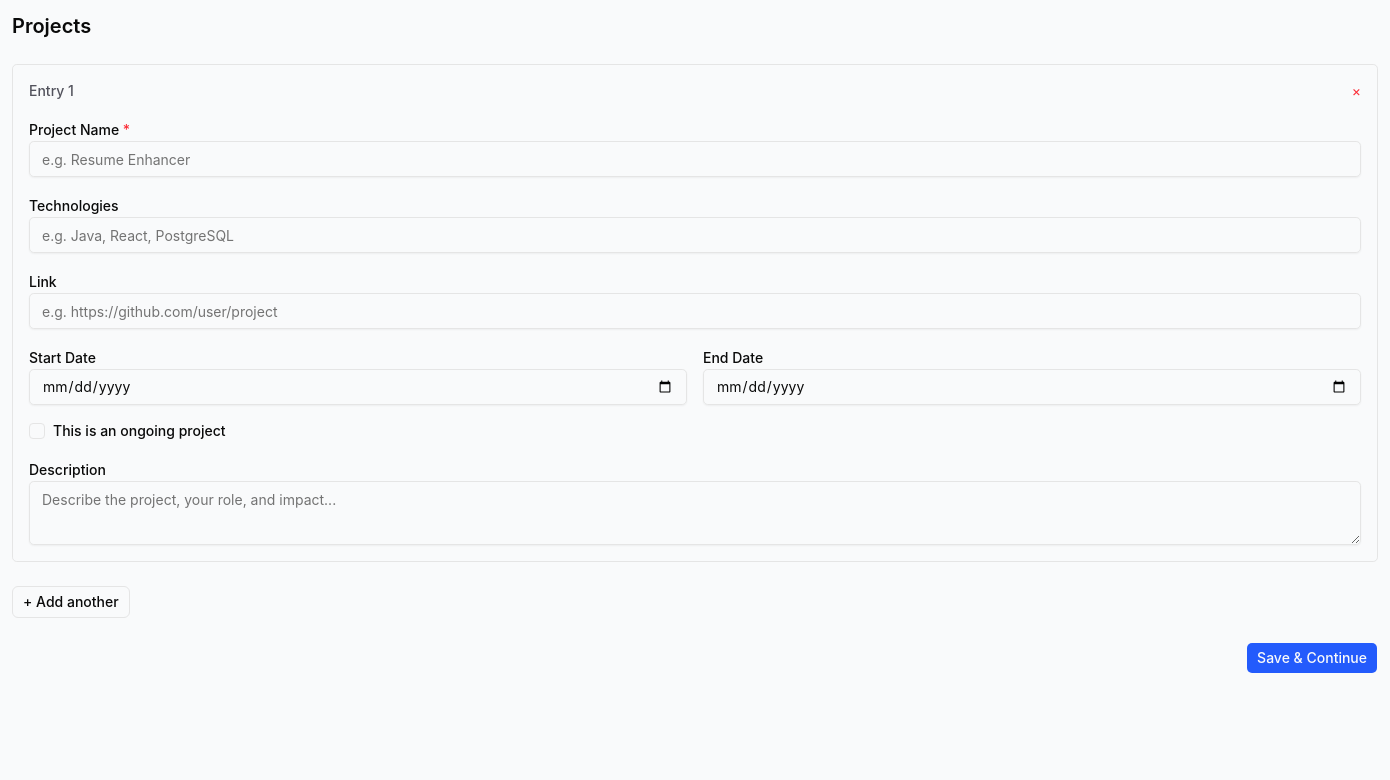
Test: ProjectsStep › blur on empty project name renders text-red-600 error below the field
The image size is (1390, 780).
Step 1. Click the field with placeholder "e.g. Resume Enhancer" → (695, 159), box [29,141,1361,177]
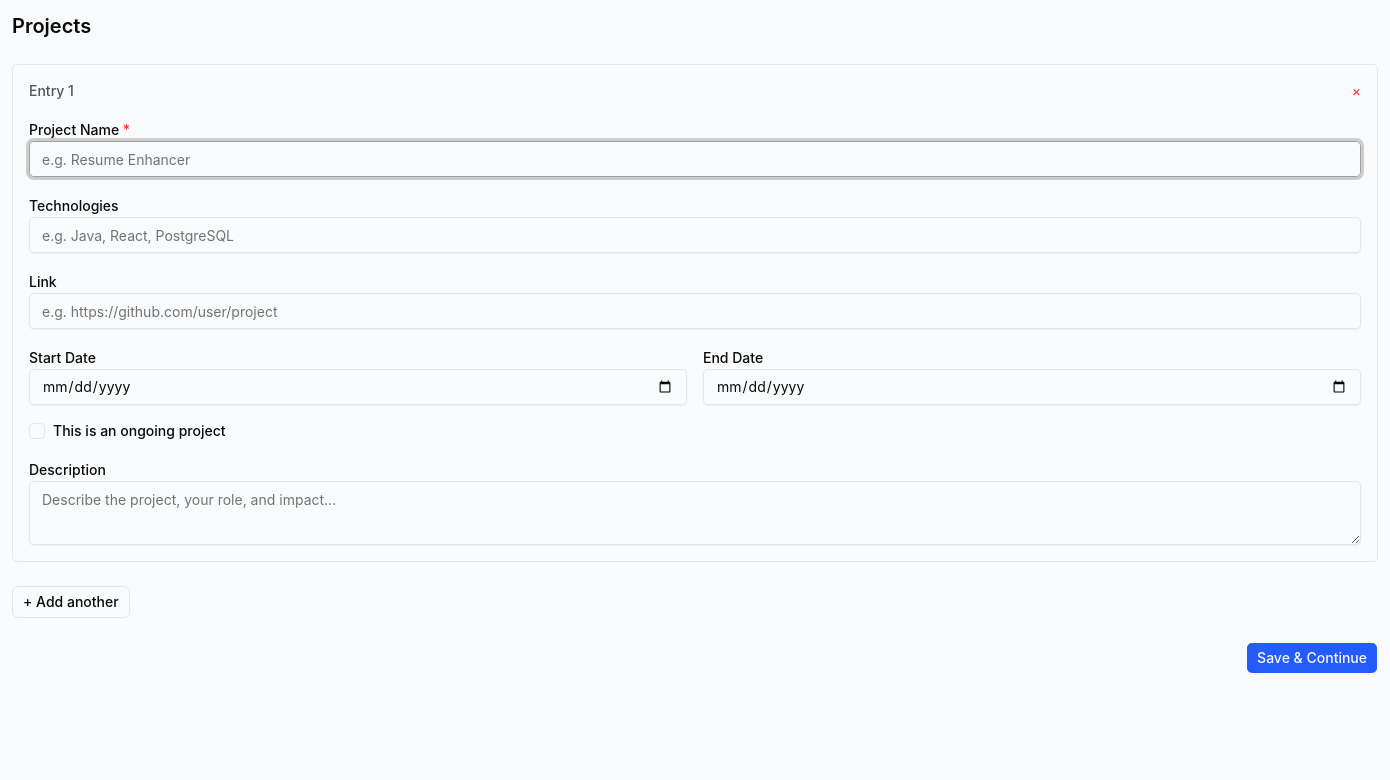
Step 2. Press Tab
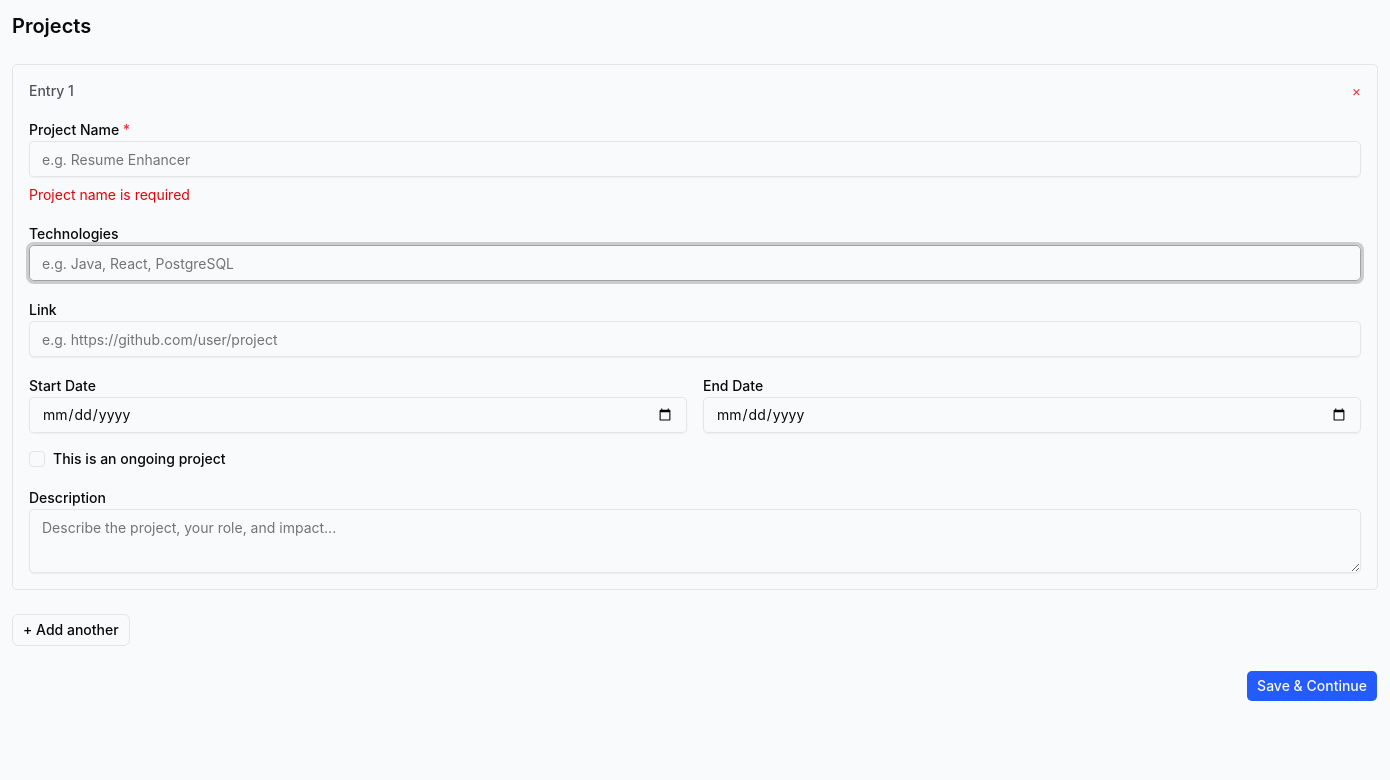
Check: the text "Project name is required" is shown, box [29,186,190,203]
